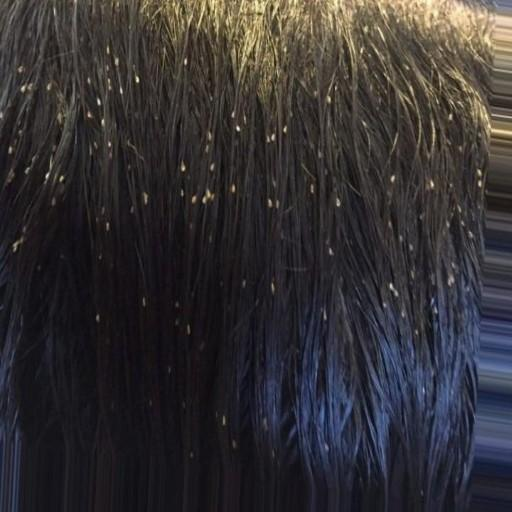Head_Lice: (231, 112, 249, 134), (202, 189, 220, 207), (267, 196, 284, 212), (19, 85, 37, 94), (360, 116, 371, 130), (141, 191, 151, 206), (265, 134, 278, 145), (113, 57, 124, 70), (308, 184, 318, 198), (105, 78, 114, 93), (84, 76, 95, 88), (92, 96, 104, 107), (331, 196, 342, 208), (207, 161, 218, 173), (89, 142, 97, 158), (206, 130, 214, 144), (327, 94, 335, 108), (230, 180, 238, 194), (5, 146, 15, 157), (45, 84, 56, 94), (16, 62, 25, 74), (104, 44, 112, 57), (57, 174, 67, 184), (117, 86, 128, 95), (105, 221, 113, 233), (56, 114, 64, 126), (133, 75, 143, 84), (22, 166, 31, 176), (85, 111, 95, 120), (49, 196, 57, 207), (107, 136, 113, 150), (386, 175, 395, 184), (184, 59, 194, 67), (180, 160, 186, 173)
